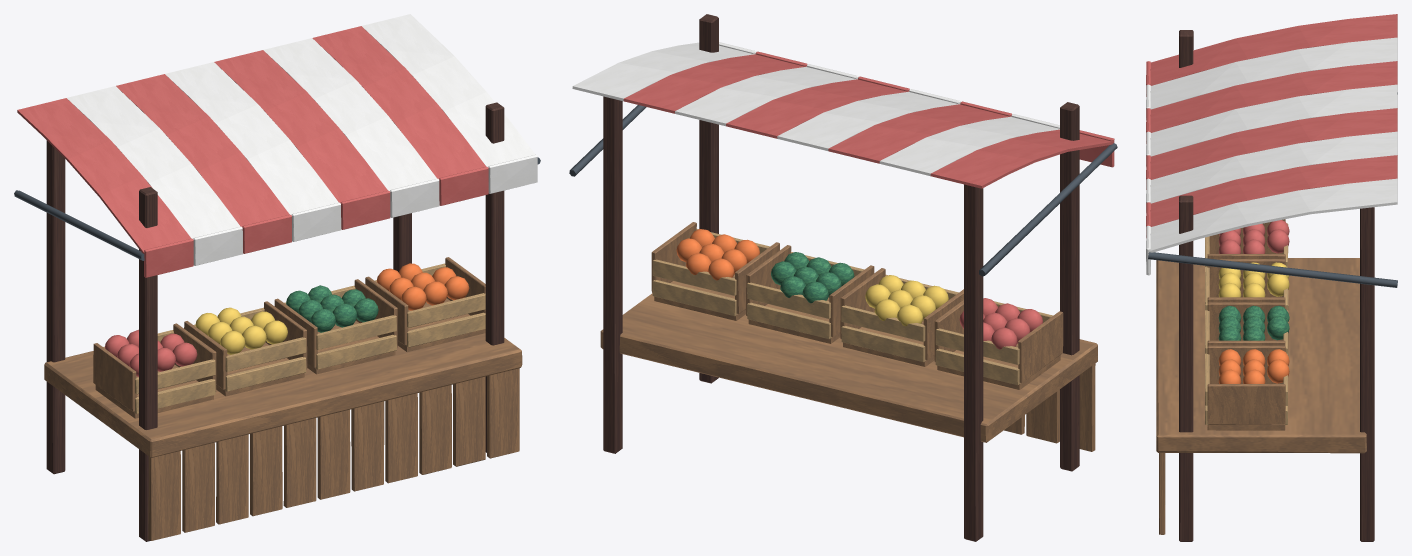
The model's file is market_stall.glb.
The picture shows the model from 3 angles, left to right: view 1: azimuth 30°, elevation 25°; view 2: azimuth 150°, elevation 25°; view 3: azimuth 270°, elevation 25°; orthographic projection. The views are drawn at different scales.
Parts seen in each view (by area): view 1: market_stall; view 2: market_stall; view 3: market_stall.
Boxes of the visible parts, x1,y1,x2,y2 form: market_stall: [14, 14, 540, 541]; market_stall: [569, 14, 1117, 541]; market_stall: [1146, 14, 1397, 541].
Bounding box in the file's own units: 3 × 2.55 × 1.67.
2 materials, 2 textured.
